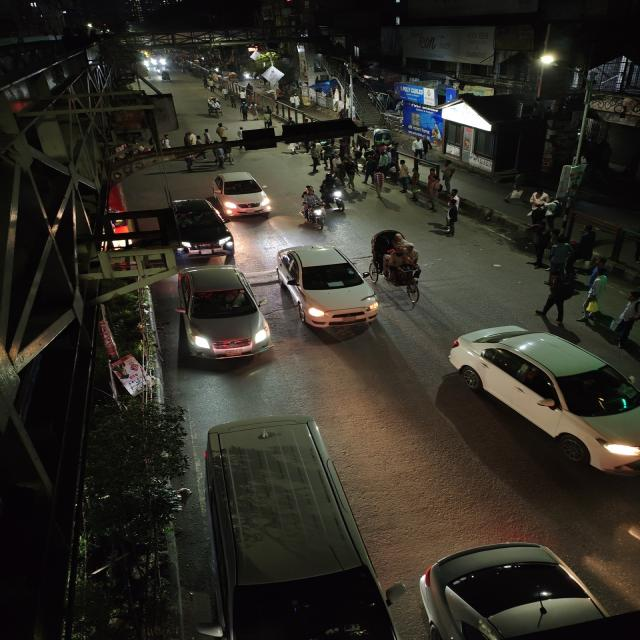car: (198, 412, 383, 640), (436, 318, 640, 481), (404, 537, 640, 640), (271, 242, 379, 336), (173, 264, 270, 368), (168, 197, 235, 256), (209, 170, 275, 221)
motorcycle: (298, 185, 328, 229), (321, 172, 347, 212)
pedestrian: (535, 275, 582, 325), (579, 262, 613, 324), (545, 238, 574, 274), (333, 156, 361, 190), (393, 160, 414, 197), (181, 131, 199, 172), (304, 142, 324, 174), (369, 166, 389, 194), (319, 141, 338, 169), (208, 142, 226, 169), (215, 122, 229, 140), (238, 101, 250, 121)
rickshaw: (367, 228, 434, 304), (204, 95, 223, 118)
